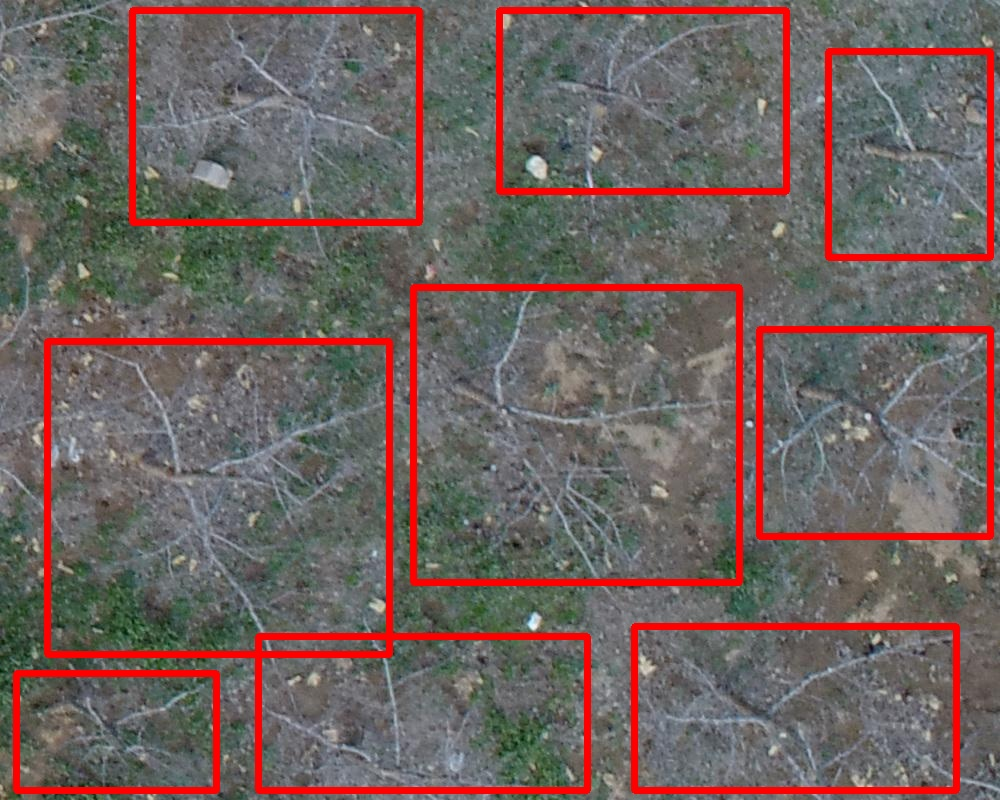apple: (47, 341, 389, 654), (413, 287, 739, 582), (132, 10, 419, 222), (634, 626, 956, 790), (499, 10, 786, 191), (258, 636, 587, 790), (759, 329, 990, 536), (828, 51, 990, 257), (16, 673, 216, 790)
